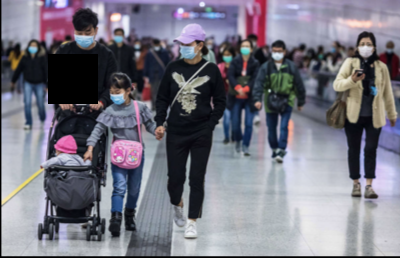with_mask: (73, 29, 95, 49), (178, 43, 197, 61), (108, 89, 126, 106), (358, 41, 375, 58), (270, 48, 285, 62), (238, 44, 252, 56), (222, 52, 233, 64), (27, 43, 38, 53), (113, 32, 123, 43), (133, 41, 141, 50), (153, 43, 161, 51), (387, 47, 394, 54)
